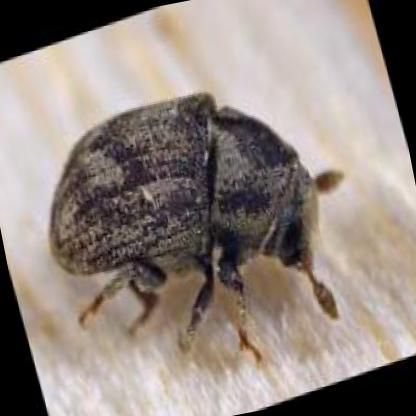ash weevil: (52, 91, 343, 336)
